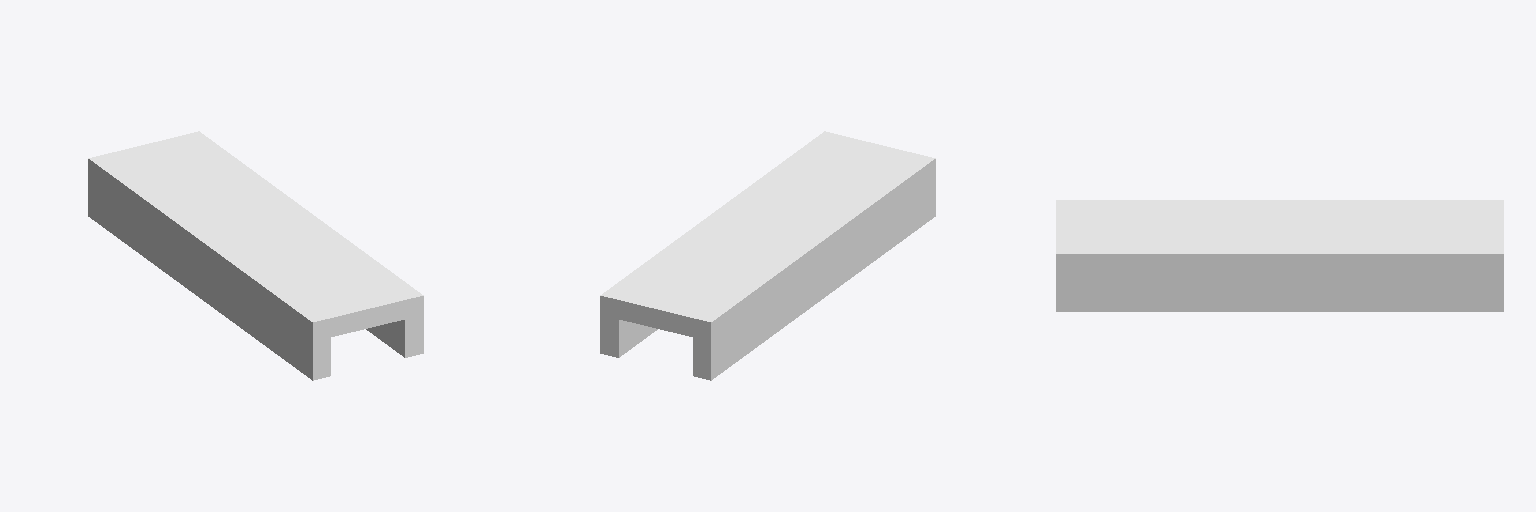
File: long_log.vox.obj
The picture shows the model from 3 angles: view 1: azimuth 30°, elevation 25°; view 2: azimuth 150°, elevation 25°; view 3: azimuth 270°, elevation 25°; orthographic projection.
Parts seen in each view (by area): view 1: object 1; view 2: object 1; view 3: object 1.
Boxes of the visible parts, box(x1,y1,x2,y2) form: object 1: box(88, 131, 423, 380); object 1: box(600, 131, 935, 380); object 1: box(1056, 200, 1503, 311).
Bounding box in the file's own units: 0.6 × 0.3 × 2.1.